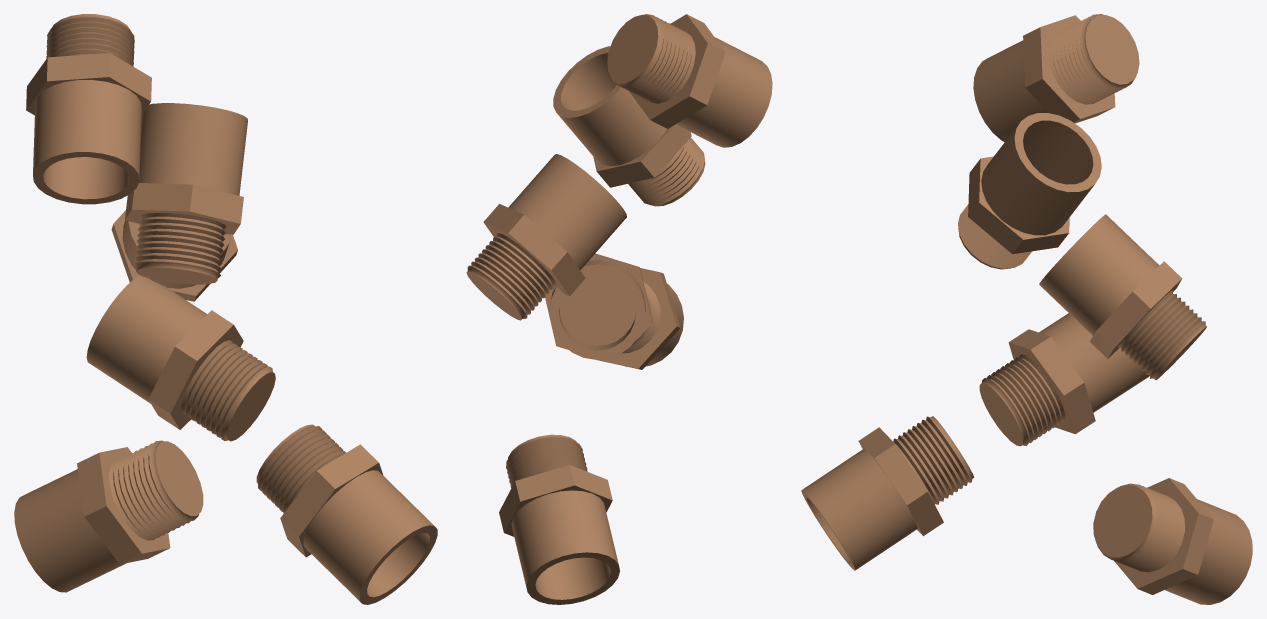
The model's file is HID-CNX-006_anim.glb.
3 views of the same model, side by side, from view 1: azimuth 30°, elevation 25°; view 2: azimuth 150°, elevation 25°; view 3: azimuth 270°, elevation 25° (orthographic). The views are drawn at different scales.
Parts seen in each view (by area): view 1: HID-CNX-006_anim5, HID-CNX-006_anim0, HID-CNX-006_anim1, HID-CNX-006_anim2, HID-CNX-006_anim4, HID-CNX-006_anim3; view 2: HID-CNX-006_anim0, HID-CNX-006_anim5, HID-CNX-006_anim3, HID-CNX-006_anim4, HID-CNX-006_anim2, HID-CNX-006_anim1; view 3: HID-CNX-006_anim4, HID-CNX-006_anim1, HID-CNX-006_anim0, HID-CNX-006_anim3, HID-CNX-006_anim5, HID-CNX-006_anim2.
Part boxes in pixels (box(x1,y1,x2,y2)): HID-CNX-006_anim5: box(26, 14, 151, 204); HID-CNX-006_anim0: box(14, 440, 203, 592); HID-CNX-006_anim1: box(256, 424, 437, 604); HID-CNX-006_anim2: box(86, 275, 275, 441); HID-CNX-006_anim4: box(125, 103, 247, 284); HID-CNX-006_anim3: box(111, 210, 237, 301); HID-CNX-006_anim0: box(499, 434, 619, 604); HID-CNX-006_anim5: box(607, 14, 772, 147); HID-CNX-006_anim3: box(466, 154, 626, 320); HID-CNX-006_anim4: box(553, 46, 705, 206); HID-CNX-006_anim2: box(545, 253, 652, 362); HID-CNX-006_anim1: box(596, 268, 683, 369); HID-CNX-006_anim4: box(958, 113, 1101, 269); HID-CNX-006_anim1: box(801, 416, 973, 570); HID-CNX-006_anim0: box(1093, 478, 1252, 604); HID-CNX-006_anim3: box(1039, 214, 1206, 379); HID-CNX-006_anim5: box(973, 14, 1139, 141); HID-CNX-006_anim2: box(979, 313, 1149, 446).
Bounding box in the file's own units: 0.1002 × 0.1995 × 0.1438.
